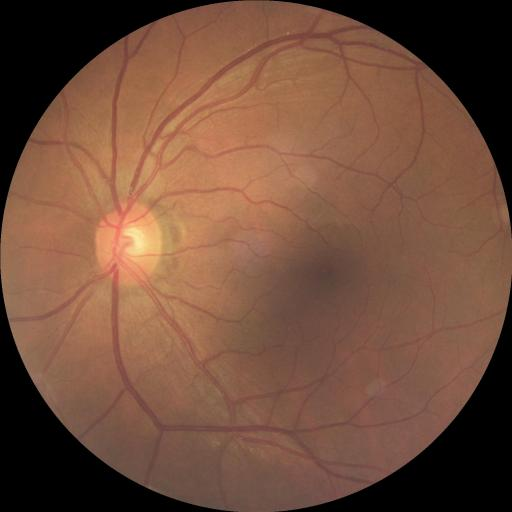Optic Cup: (120, 227, 146, 258)
Optic Disc: (96, 201, 163, 286)
